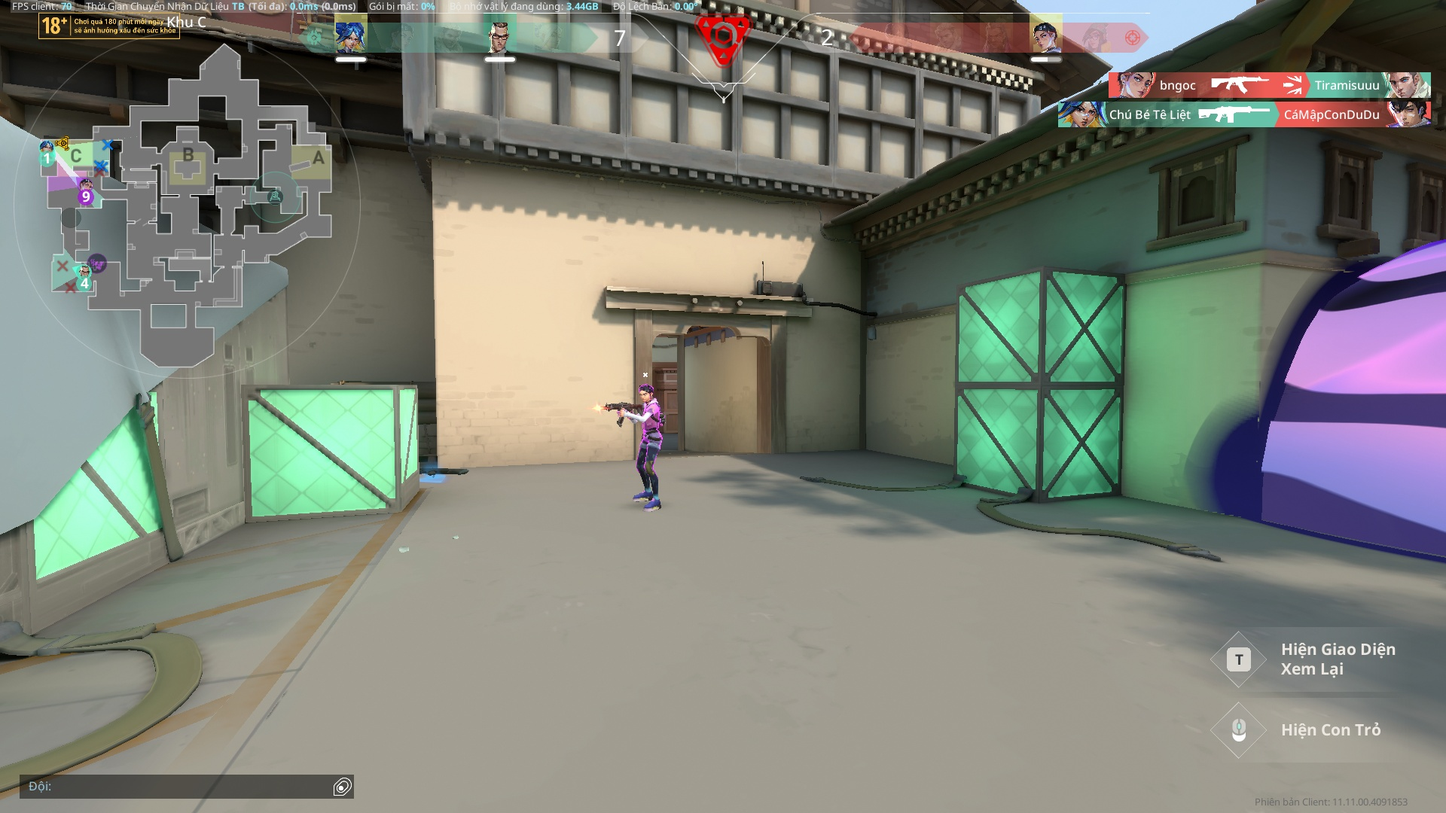body: (640, 401, 661, 430)
head: (637, 385, 654, 401)
